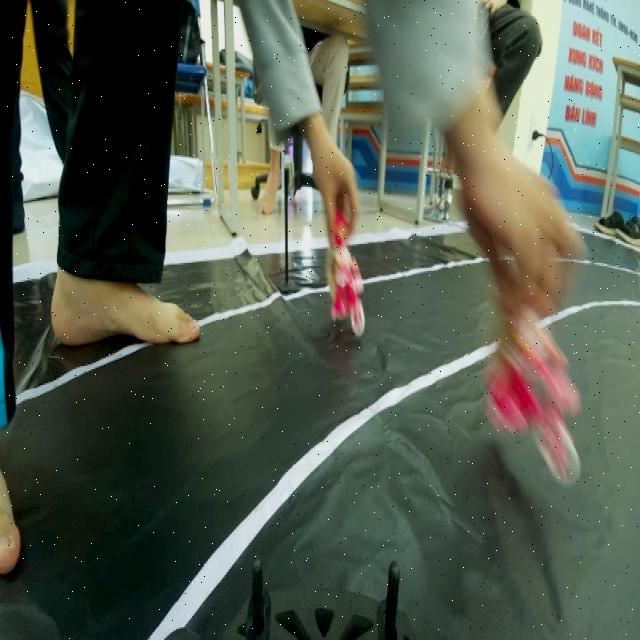pedestrian: (323, 222, 369, 332)
